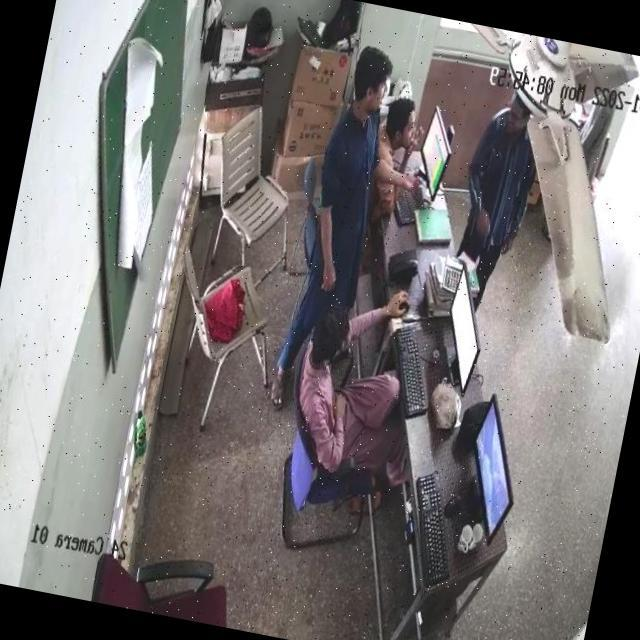person: (266, 41, 396, 403), (275, 290, 410, 494), (448, 88, 536, 300), (362, 91, 421, 194)
